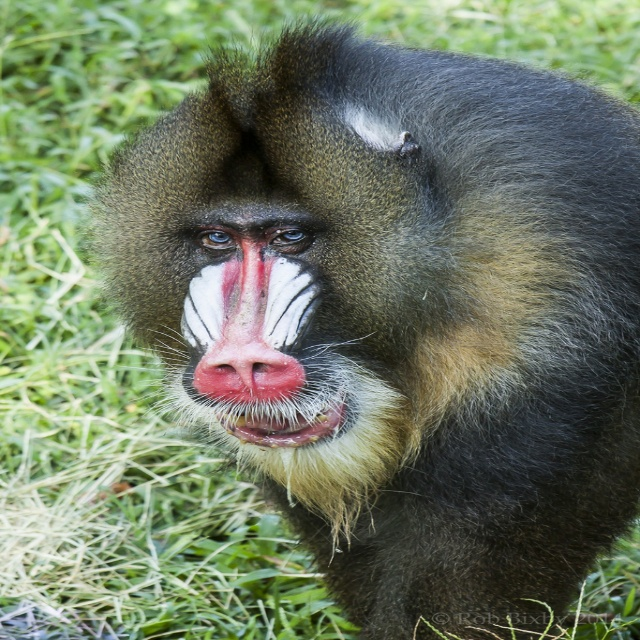Monkey: (72, 6, 640, 640)
